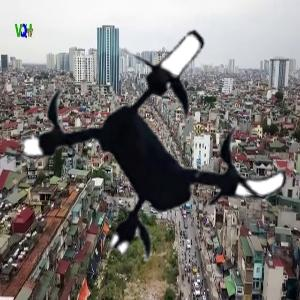drone: (27, 5, 299, 277)
